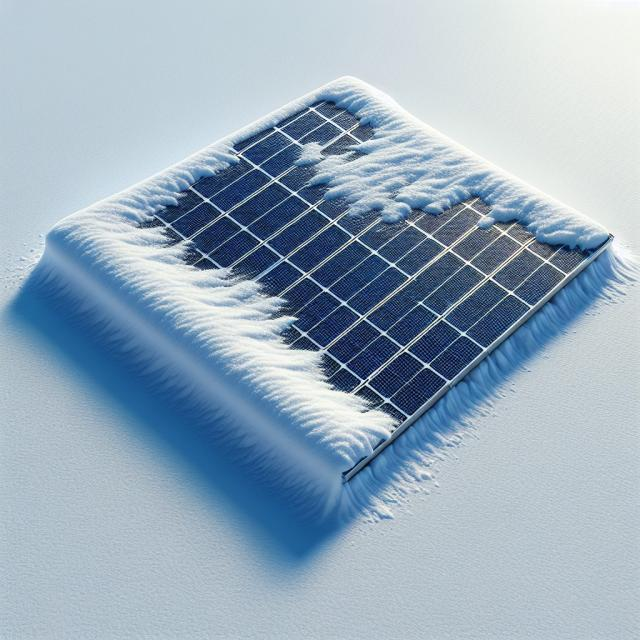Anomaly Solar Panel: (49, 0, 613, 512)
Snow: (46, 0, 614, 515)
